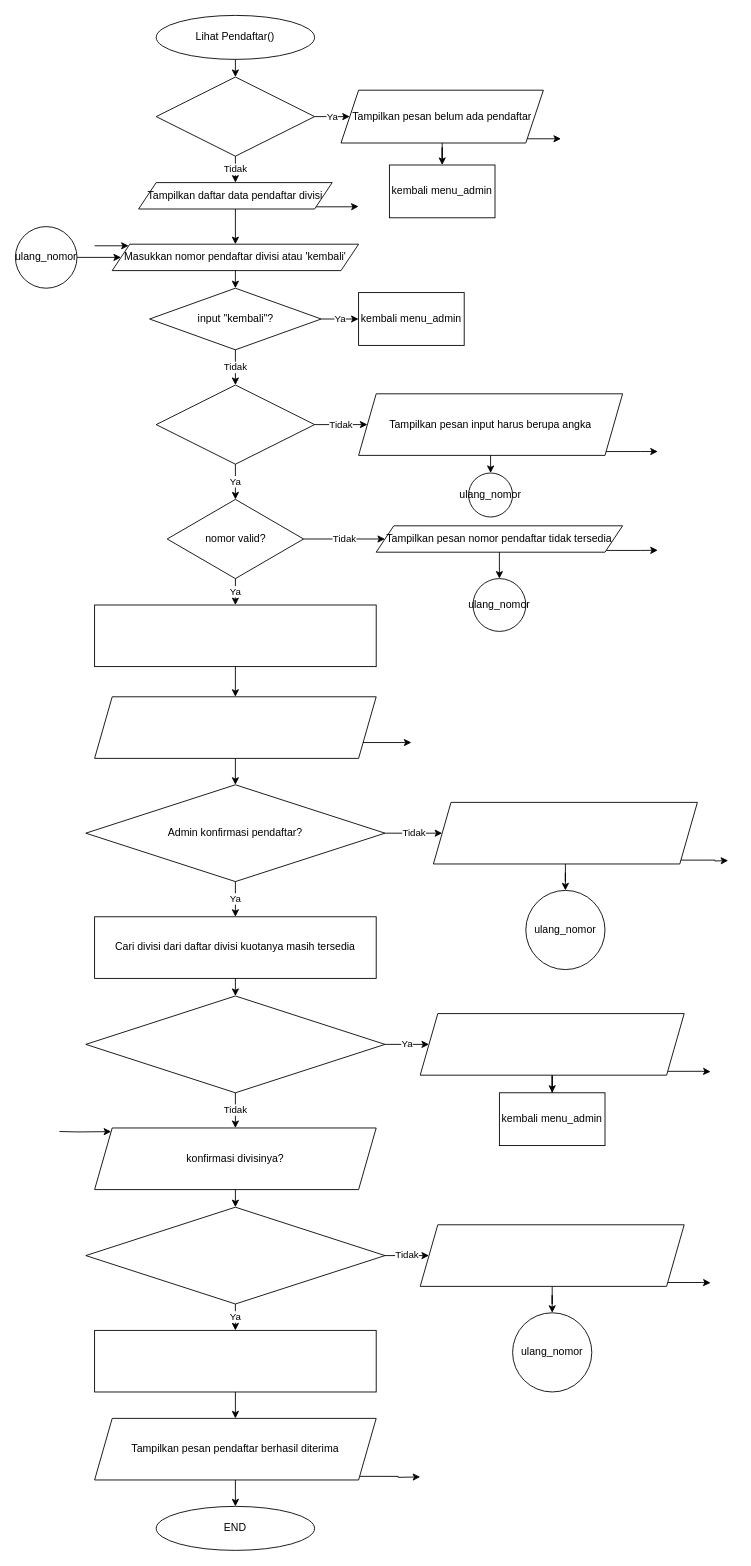
The diagram is 751 pixels wide and 1566 high, and some of its shapes have lost their labels. Each missing label, with the centre of its shape:
"Ambil data pendaftar yang dipilih" goes at pixel 235 635.
"Belum ada data pendaftar dipenyimpanan?" goes at pixel 235 116.
"Input berupa angka?" goes at pixel 235 424.
"konfirmasi disetujui?" goes at pixel 235 1255.
"kuota masih semua?" goes at pixel 235 1044.
"Tampilkan detail data pendaftar" goes at pixel 235 727.
"Tampilkan pesan konfirmasi dibatalkan" goes at pixel 551 1255.
"Tampilkan pesan semua pilihan divisi sudah penuh" goes at pixel 551 1044.
"Tampilkan pesan tidak jadi konfirmasi" goes at pixel 565 833.
"Ubah status menjadi Diterima, simpan divisi diterima, kurangi kuota divisi" goes at pixel 235 1361.
